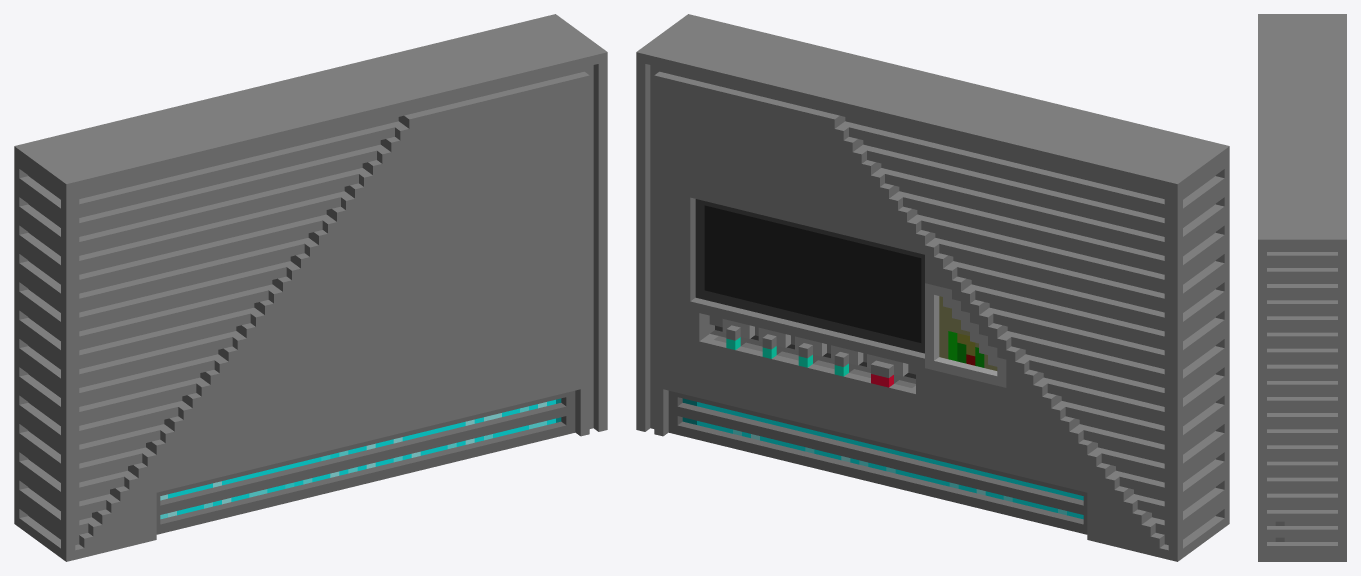
The model's file is Command Wall 4.obj.
3 renders of one model, left to right at view 1: azimuth 30°, elevation 25°; view 2: azimuth 150°, elevation 25°; view 3: azimuth 270°, elevation 25°, orthographic. The views are drawn at different scales.
Size of the model in its own units: 60 by 40 by 10.
Materials: 1 (1 with a texture image).
